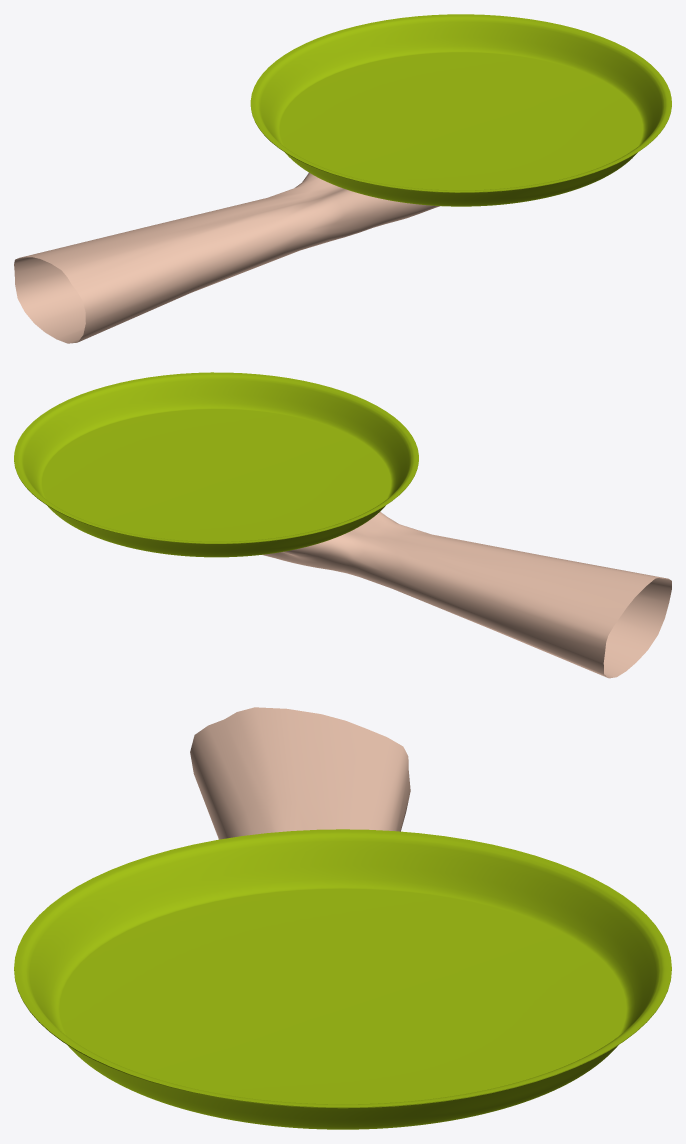
File: HandandTray.fbx
3 views of the same model, one above another, from view 1: azimuth 30°, elevation 25°; view 2: azimuth 150°, elevation 25°; view 3: azimuth 270°, elevation 25° (orthographic). The views are drawn at different scales.
Visible parts, largest first — view 1: Tube_2, hand; view 2: Tube_2, hand; view 3: Tube_2, hand.
Part boxes in pixels (x1=…): Tube_2: x1=250, y1=14, x2=671, y2=206; hand: x1=14, y1=172, x2=440, y2=343; Tube_2: x1=14, y1=372, x2=418, y2=557; hand: x1=262, y1=511, x2=671, y2=678; Tube_2: x1=14, y1=829, x2=671, y2=1129; hand: x1=190, y1=707, x2=410, y2=839.
Bounding box in the file's own units: 2501 × 480 × 1495.
